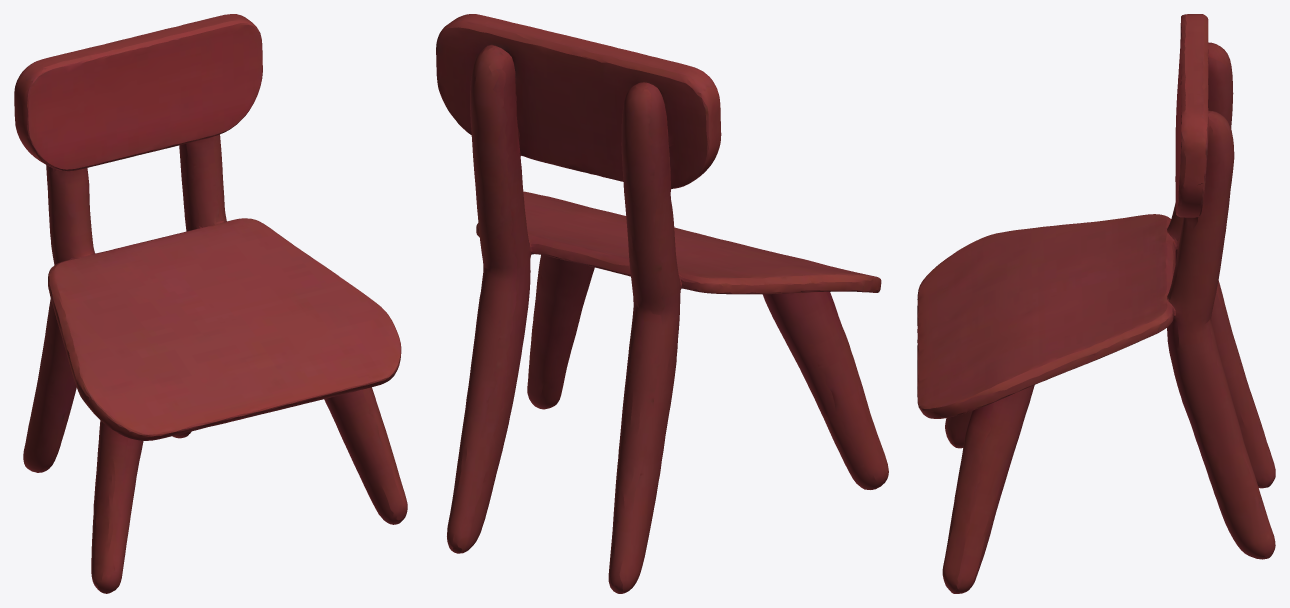
File: chair.glb
3 views of the same model, side by side, from view 1: azimuth 30°, elevation 25°; view 2: azimuth 150°, elevation 25°; view 3: azimuth 270°, elevation 25° (orthographic). The views are drawn at different scales.
Visible parts, largest first — view 1: Mesh; view 2: Mesh; view 3: Mesh.
Part boxes in pixels (x1,y1,x2,y2): Mesh: [14, 14, 407, 593]; Mesh: [436, 14, 888, 593]; Mesh: [917, 14, 1275, 593].
Bounding box in the file's own units: 0.745 × 1 × 0.708.
1 material, 1 textured.
